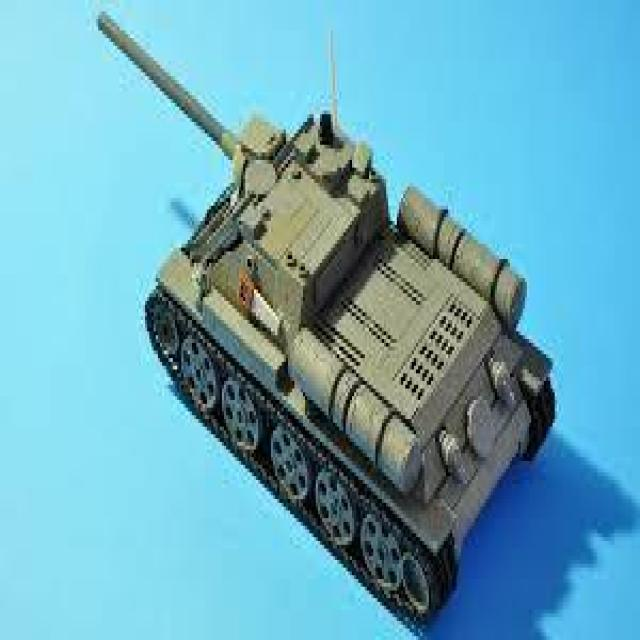Tanks: (144, 99, 556, 625)
